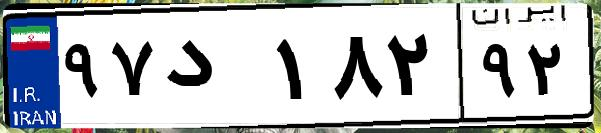1: (270, 28, 330, 110)
2: (385, 28, 445, 110), (525, 38, 570, 115)
7: (110, 28, 158, 98)
8: (330, 28, 385, 110)
9: (57, 26, 110, 100), (475, 38, 525, 113)
د: (158, 20, 270, 120)
